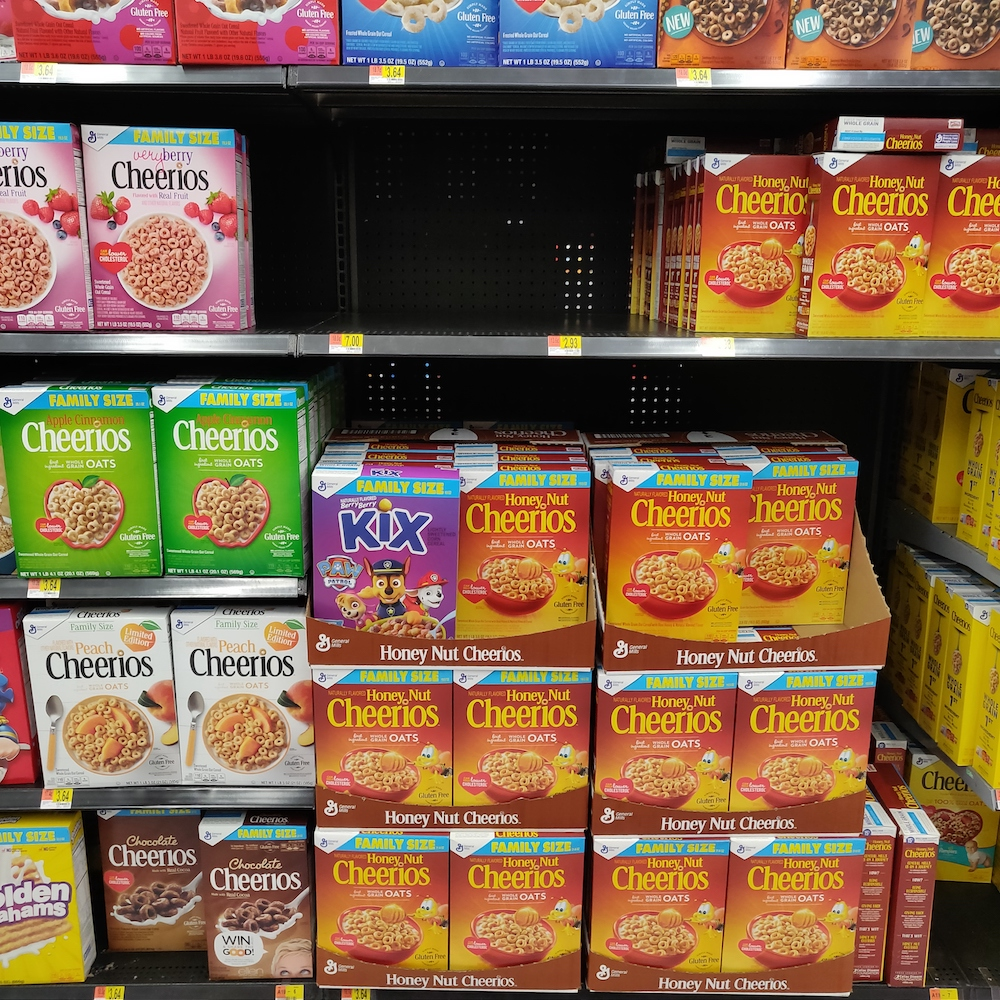Kix Berry -568919964: (315, 462, 453, 646)
